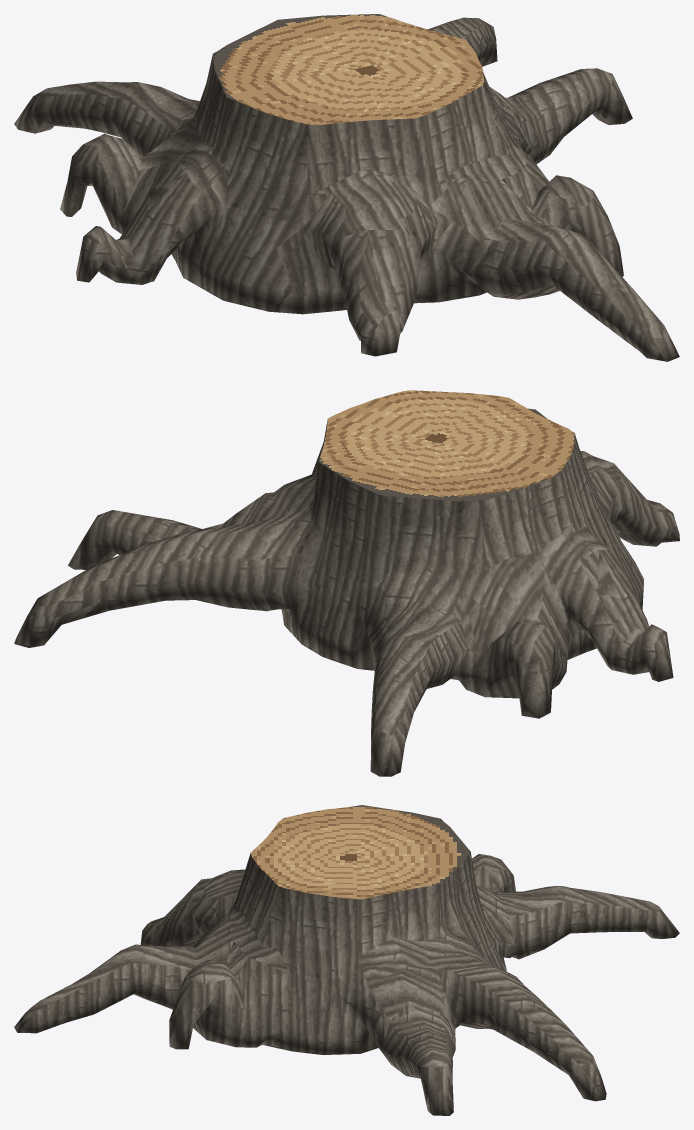
File: environment_elm4_stump_v59.fbx
The picture shows the model from 3 angles, top to bottom: view 1: azimuth 30°, elevation 25°; view 2: azimuth 150°, elevation 25°; view 3: azimuth 270°, elevation 25°; orthographic projection. The views are drawn at different scales.
Visible parts, largest first — view 1: environment_elm4_stump_v59; view 2: environment_elm4_stump_v59; view 3: environment_elm4_stump_v59.
Part boxes in pixels (<box>): environment_elm4_stump_v59: <box>14,14,679,361</box>; environment_elm4_stump_v59: <box>14,390,679,776</box>; environment_elm4_stump_v59: <box>14,805,679,1115</box>.
Bounding box in the file's own units: 432 × 116 × 525.
Materials: 2 (2 with a texture image).
